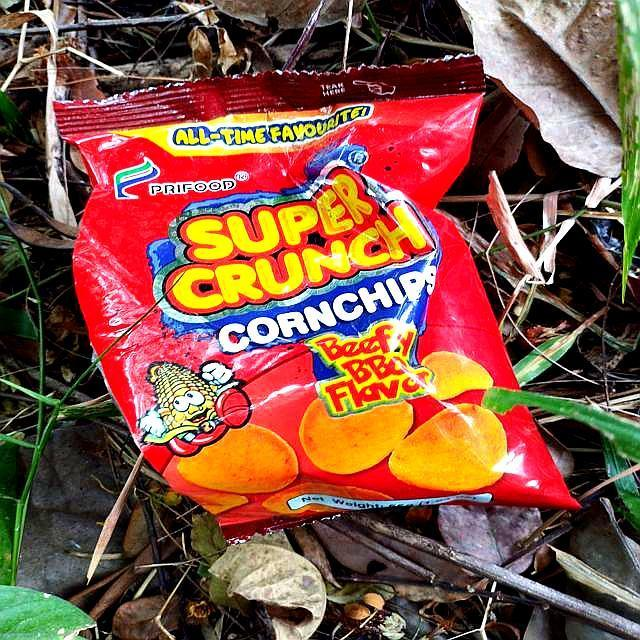Non-biodegradable: (55, 51, 581, 545)
